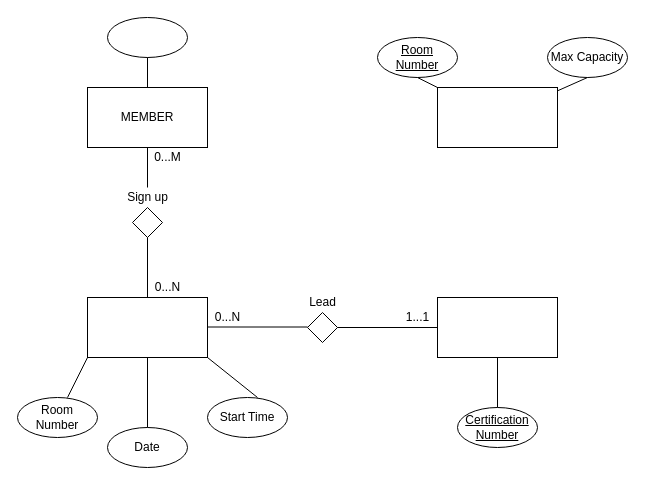
Image size: 645x485. Some labels were removed from this diagram. The centre of each missing label's shape, as x and y in pixels:
ID: (x=147, y=37)
ROOM: (x=497, y=117)
SESSIONS: (x=147, y=327)
TRAINER: (x=497, y=327)
